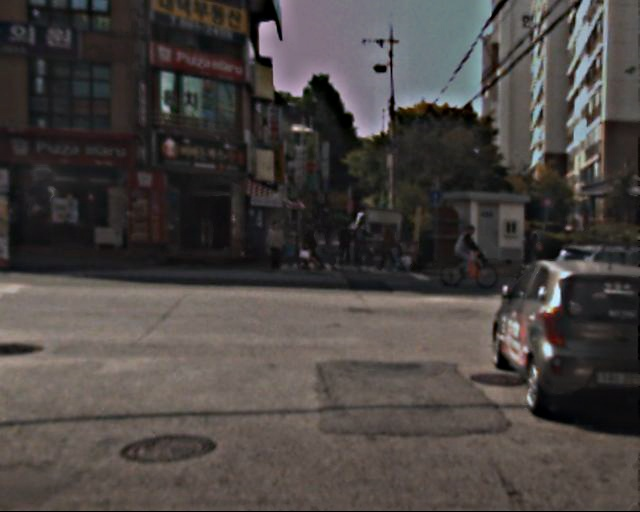person: (458, 225, 481, 282), (380, 222, 403, 277), (265, 219, 286, 271), (301, 220, 322, 271), (354, 221, 374, 269), (338, 223, 357, 269), (524, 223, 541, 265), (395, 235, 411, 273), (325, 215, 338, 247)
